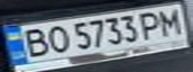3: (118, 11, 142, 43), (103, 16, 127, 46)
5: (69, 19, 90, 51)
7: (87, 17, 109, 47)
B: (15, 25, 51, 58)
M: (154, 6, 184, 37)
O: (42, 24, 72, 55)
P: (136, 9, 166, 39)
